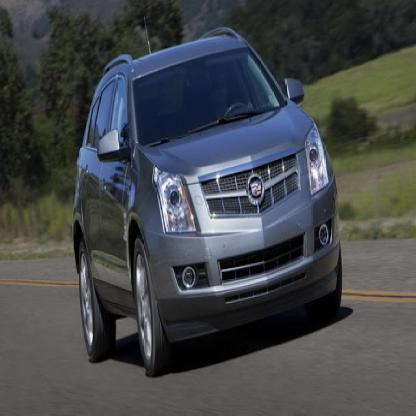Vehicle: (72, 27, 343, 378)
